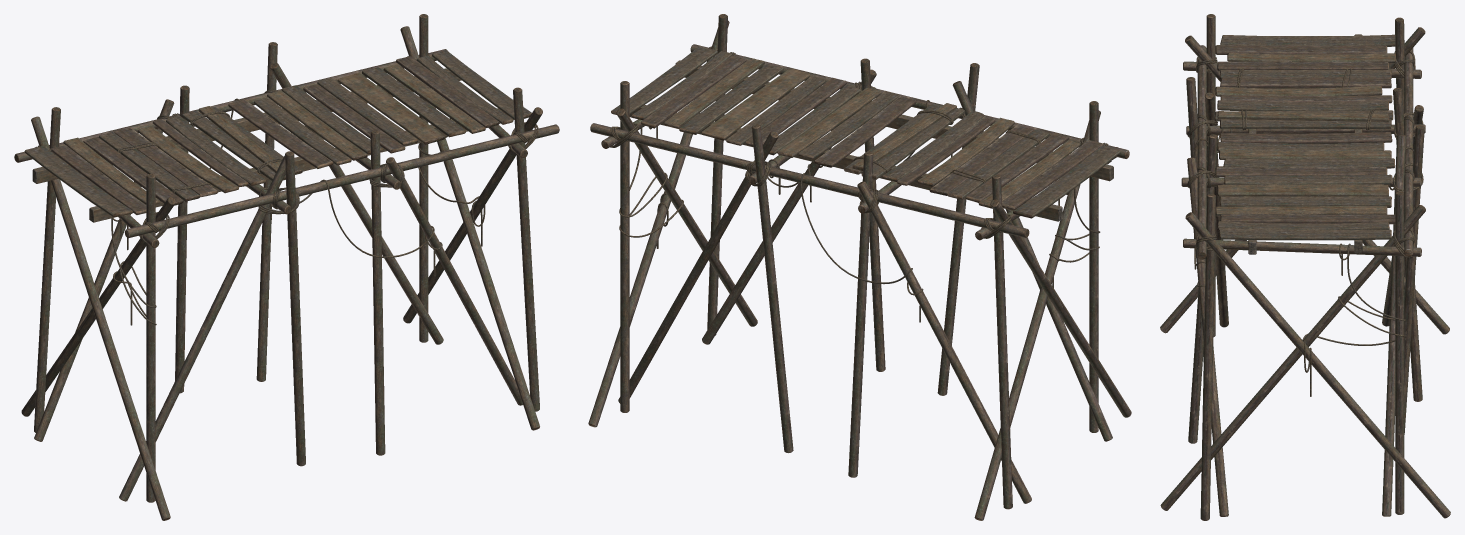
File: SM_Construction_v1_5x9_01.fbx
The picture shows the model from 3 angles, left to right: view 1: azimuth 30°, elevation 25°; view 2: azimuth 150°, elevation 25°; view 3: azimuth 270°, elevation 25°; orthographic projection. The views are drawn at different scales.
Visible parts, largest first — view 1: SM_Construction_v1_5x9_01_LOD0; view 2: SM_Construction_v1_5x9_01_LOD0; view 3: SM_Construction_v1_5x9_01_LOD0.
Boxes of the visible parts, bbox=[...] form: SM_Construction_v1_5x9_01_LOD0: bbox=[14, 14, 559, 520]; SM_Construction_v1_5x9_01_LOD0: bbox=[588, 14, 1131, 520]; SM_Construction_v1_5x9_01_LOD0: bbox=[1160, 14, 1450, 520].
Size of the model in its own units: 933 by 537 by 654.
Materials: 1 (1 with a texture image).
